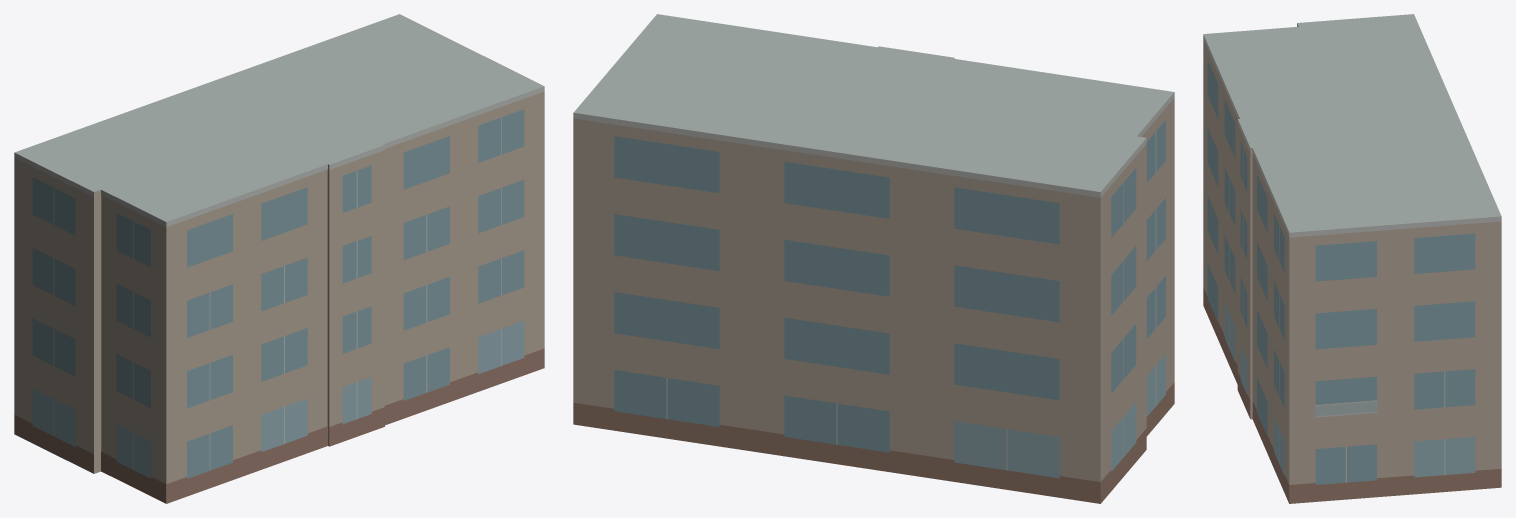
File: survey-upis-32982378.glb
The picture shows the model from 3 angles, left to right: view 1: azimuth 30°, elevation 25°; view 2: azimuth 150°, elevation 25°; view 3: azimuth 270°, elevation 25°; orthographic projection. The views are drawn at different scales.
Visible parts, largest first — view 1: survey-upis-32982378.tmp; view 2: survey-upis-32982378.tmp; view 3: survey-upis-32982378.tmp.
Boxes of the visible parts, x1=… form: survey-upis-32982378.tmp: x1=14, y1=14, x2=544, y2=503; survey-upis-32982378.tmp: x1=573, y1=14, x2=1174, y2=503; survey-upis-32982378.tmp: x1=1203, y1=14, x2=1501, y2=503.
Size of the model in its own units: 23.01 by 13.3 by 13.27.
